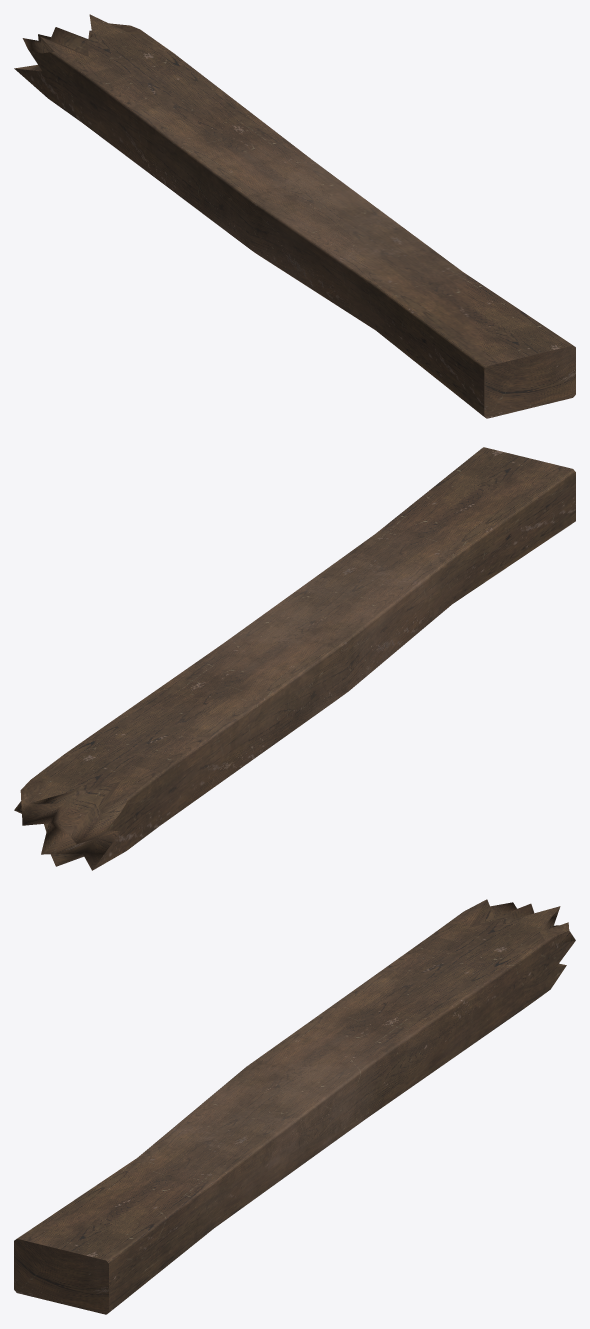
The model's file is SM_Wooden_Beam_04.fbx.
The picture shows the model from 3 angles, top to bottom: view 1: azimuth 30°, elevation 25°; view 2: azimuth 150°, elevation 25°; view 3: azimuth 330°, elevation 25°; orthographic projection. The views are drawn at different scales.
Visible parts, largest first — view 1: SM_Wooden_Beam_04_LOD0; view 2: SM_Wooden_Beam_04_LOD0; view 3: SM_Wooden_Beam_04_LOD0.
Boxes of the visible parts, x1,y1,x2,y2 form: SM_Wooden_Beam_04_LOD0: (14, 14, 575, 418); SM_Wooden_Beam_04_LOD0: (14, 447, 575, 870); SM_Wooden_Beam_04_LOD0: (14, 899, 575, 1314).
Size of what is drawn, in the model's own units: 52.19 by 28.04 by 439.
